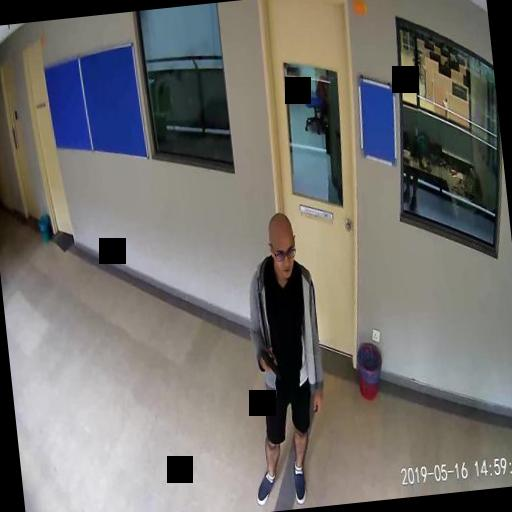Handgun: (260, 346, 280, 380)
